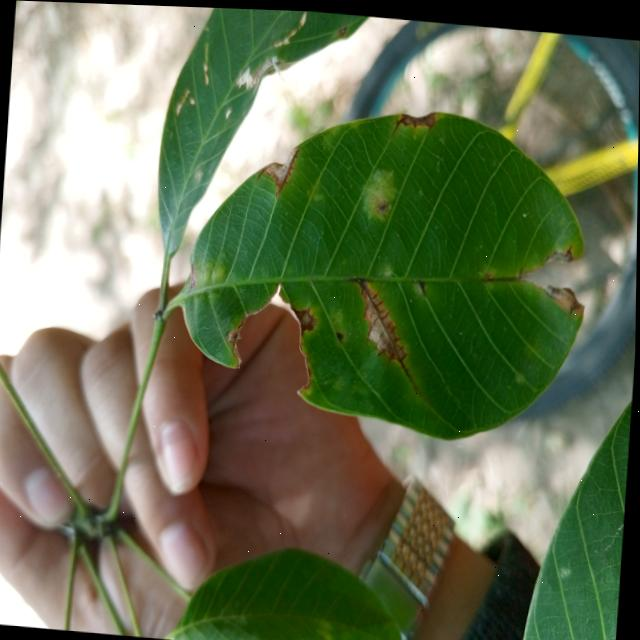Corynespora: (343, 272, 430, 393), (276, 144, 300, 196), (484, 267, 524, 280), (393, 113, 408, 130), (257, 162, 270, 177)
Leaf-Blight: (236, 51, 296, 90), (262, 143, 296, 184), (547, 278, 587, 311), (403, 105, 436, 124), (274, 33, 290, 45), (299, 9, 307, 21), (226, 105, 233, 117)
